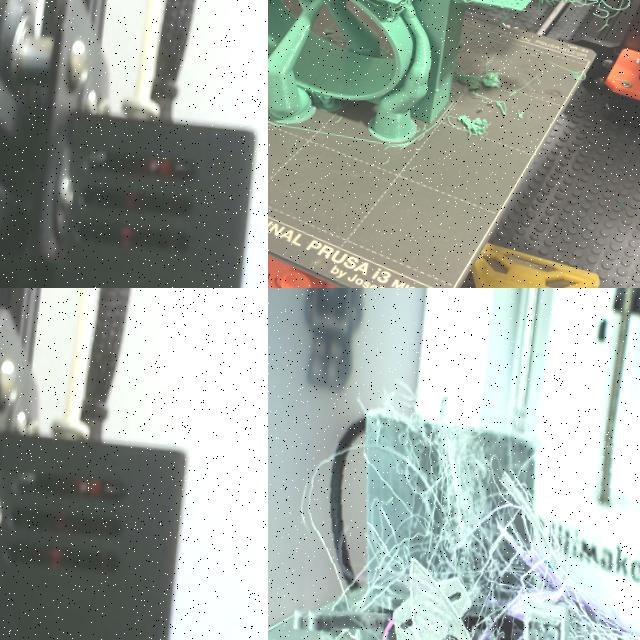spaghetti: (300, 399, 640, 640), (452, 68, 512, 102), (447, 110, 499, 144), (544, 62, 594, 94)
